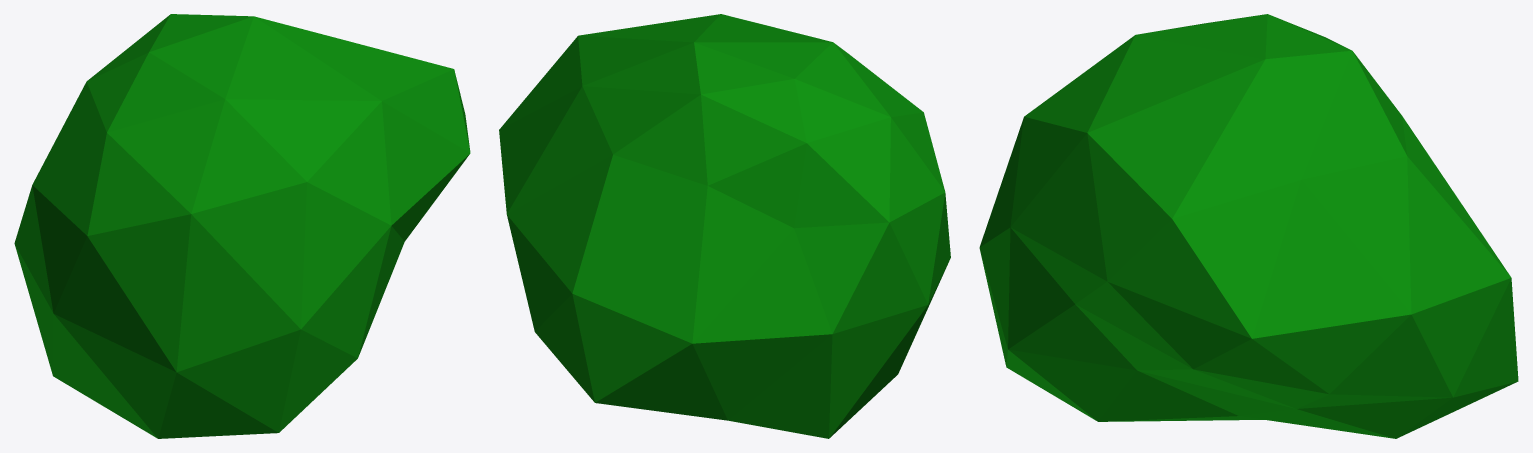
The model's file is lp_tree1_Icosphere_011.obj.
The picture shows the model from 3 angles, left to right: view 1: azimuth 30°, elevation 25°; view 2: azimuth 150°, elevation 25°; view 3: azimuth 270°, elevation 25°; orthographic projection. The views are drawn at different scales.
Parts seen in each view (by area): view 1: lp_tree1_Icosphere_011; view 2: lp_tree1_Icosphere_011; view 3: lp_tree1_Icosphere_011.
Part boxes in pixels (x1,y1,x2,y2): lp_tree1_Icosphere_011: [14, 14, 470, 438]; lp_tree1_Icosphere_011: [499, 14, 950, 438]; lp_tree1_Icosphere_011: [979, 14, 1518, 438].
Bounding box in the file's own units: 7.47 × 5.92 × 7.16.
